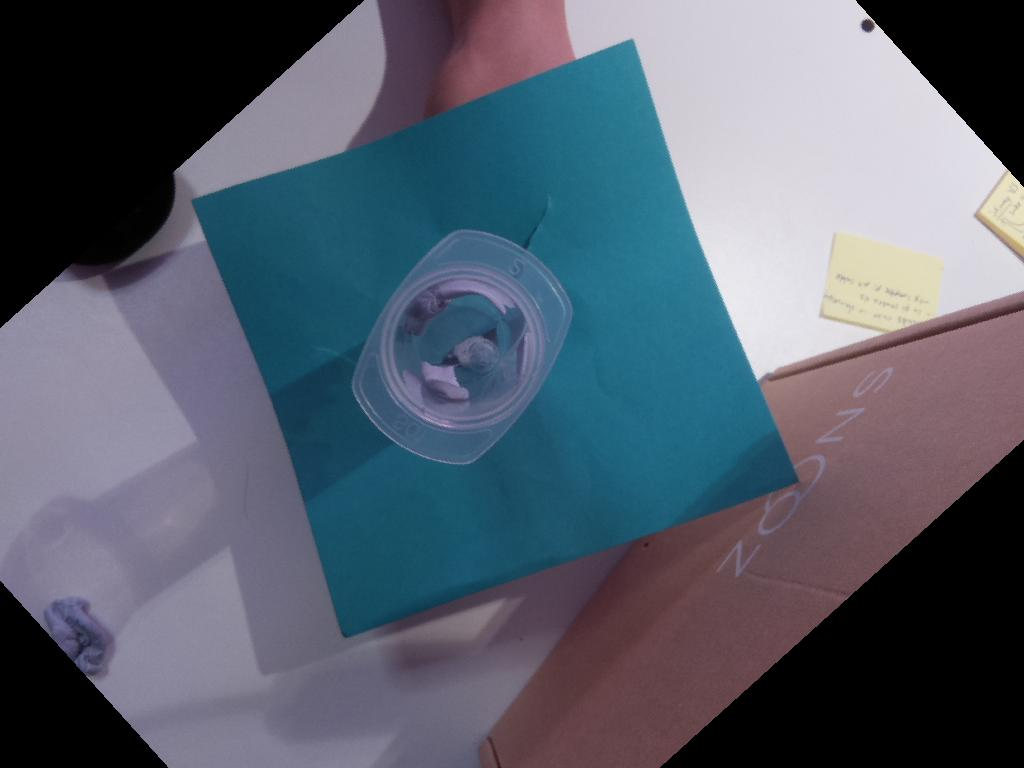dirty: (350, 230, 575, 466)
